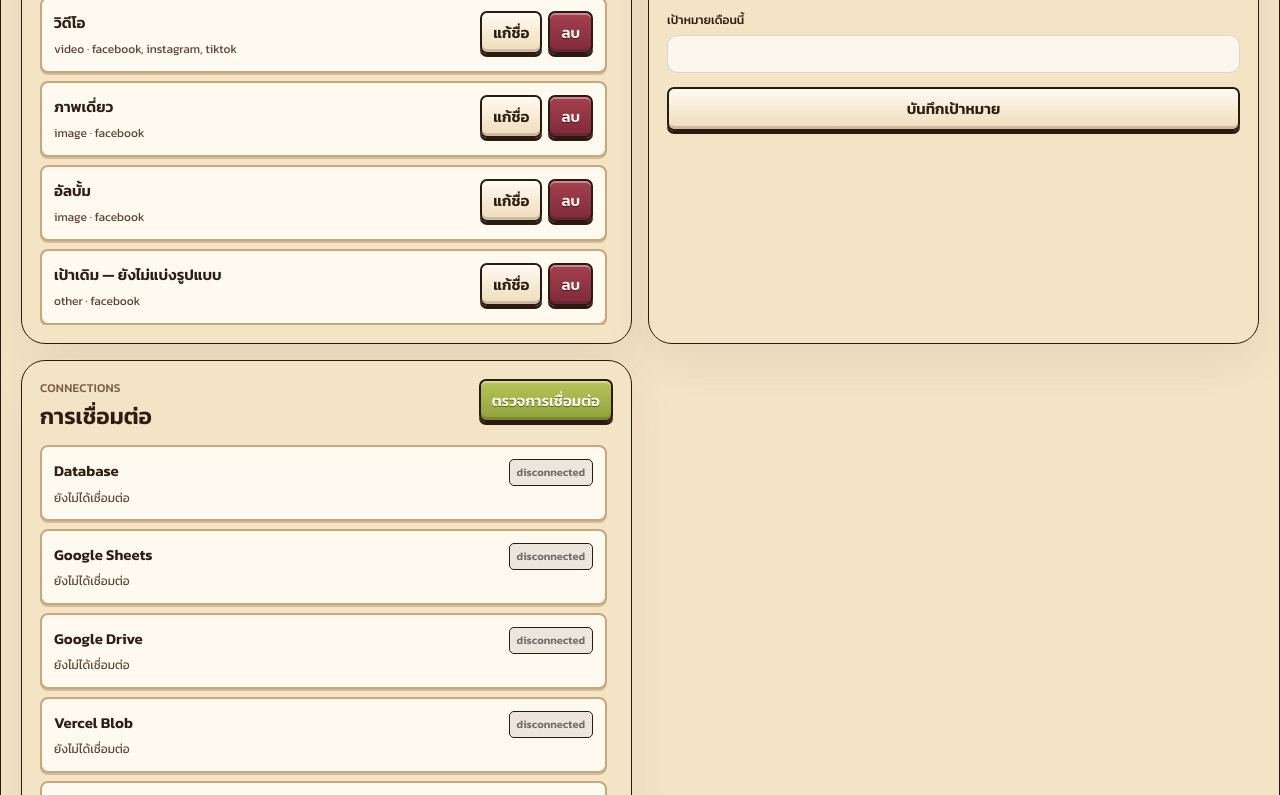
it: SettingsWorkspace › refreshes integration health without exposing secrets
(page scrolled)
Click the button "ตรวจการเชื่อมต่อ" at (546, 400), box [479,378,613,422]
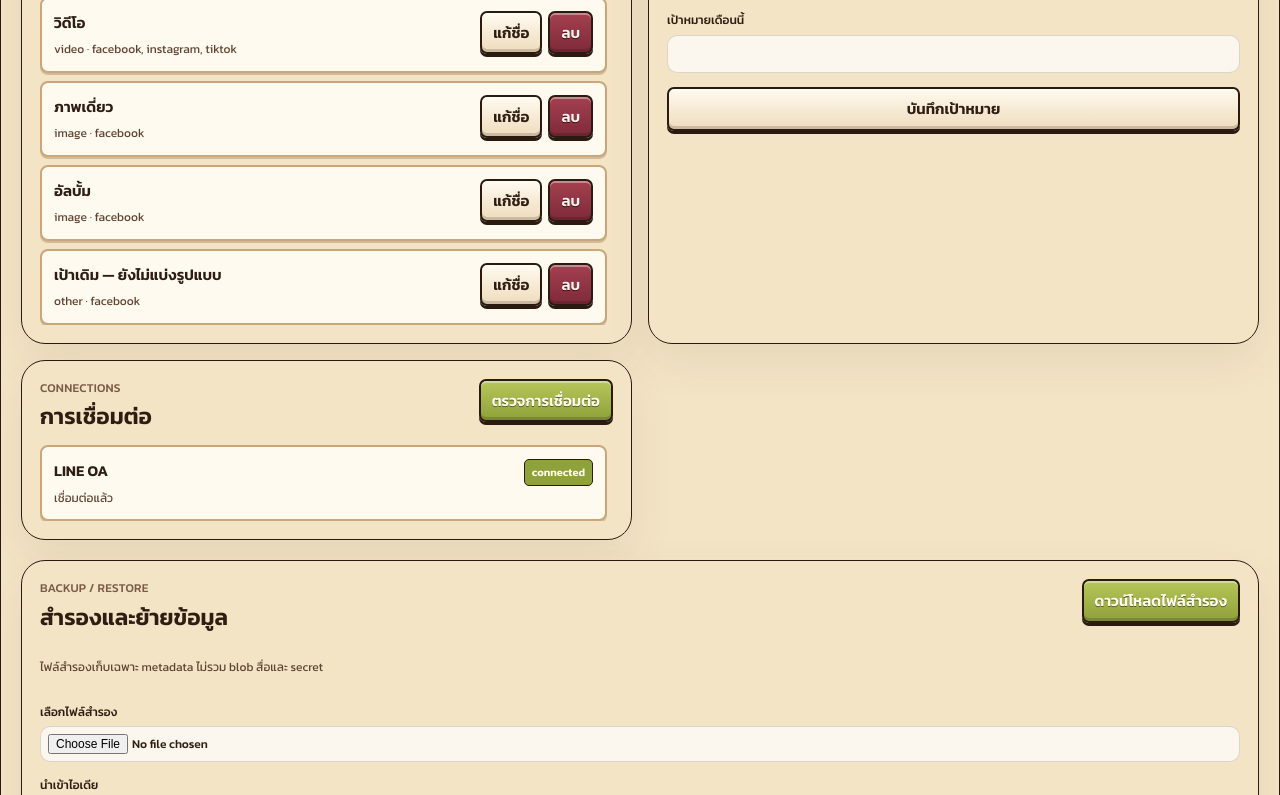
Expected: the text "เชื่อมต่อแล้ว" is shown, [54,489,113,507]
